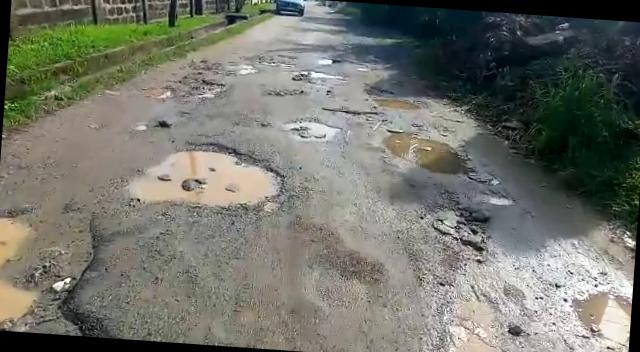pothole: (124, 134, 293, 218), (0, 201, 102, 336), (565, 283, 633, 352), (373, 125, 476, 170), (419, 202, 491, 262), (142, 66, 228, 104), (282, 117, 338, 144), (323, 106, 389, 122), (288, 66, 344, 84), (370, 96, 424, 113), (476, 190, 518, 206)
